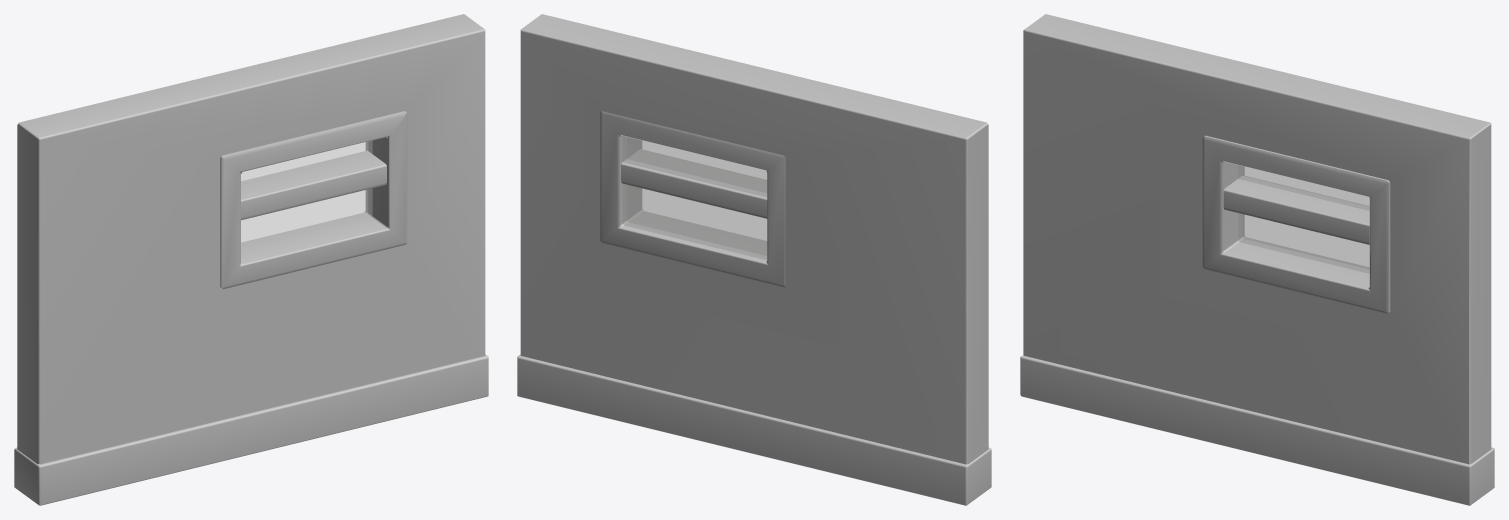
Rendered from Wall_63.fbx.
The picture shows the model from 3 angles, left to right: view 1: azimuth 30°, elevation 25°; view 2: azimuth 150°, elevation 25°; view 3: azimuth 330°, elevation 25°; orthographic projection.
Visible parts, largest first — view 1: Wall_63; view 2: Wall_63; view 3: Wall_63.
Boxes of the visible parts, x1,y1,x2,y2 form: Wall_63: (14, 14, 488, 505); Wall_63: (517, 14, 991, 505); Wall_63: (1020, 14, 1494, 505).
Bounding box in the file's own units: 463 × 360 × 46.57.
